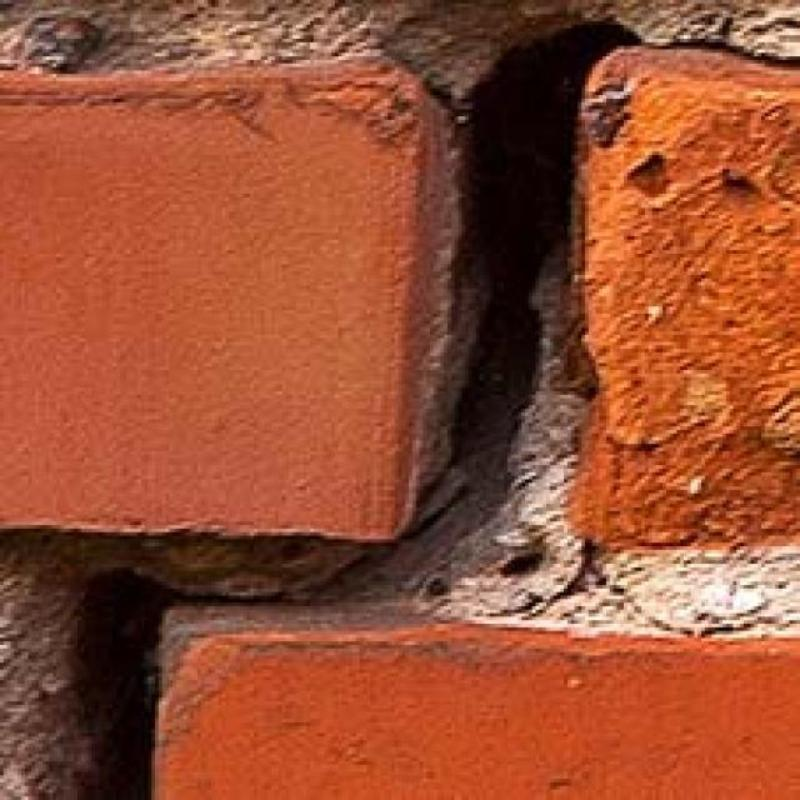pothole: (75, 25, 799, 799)
